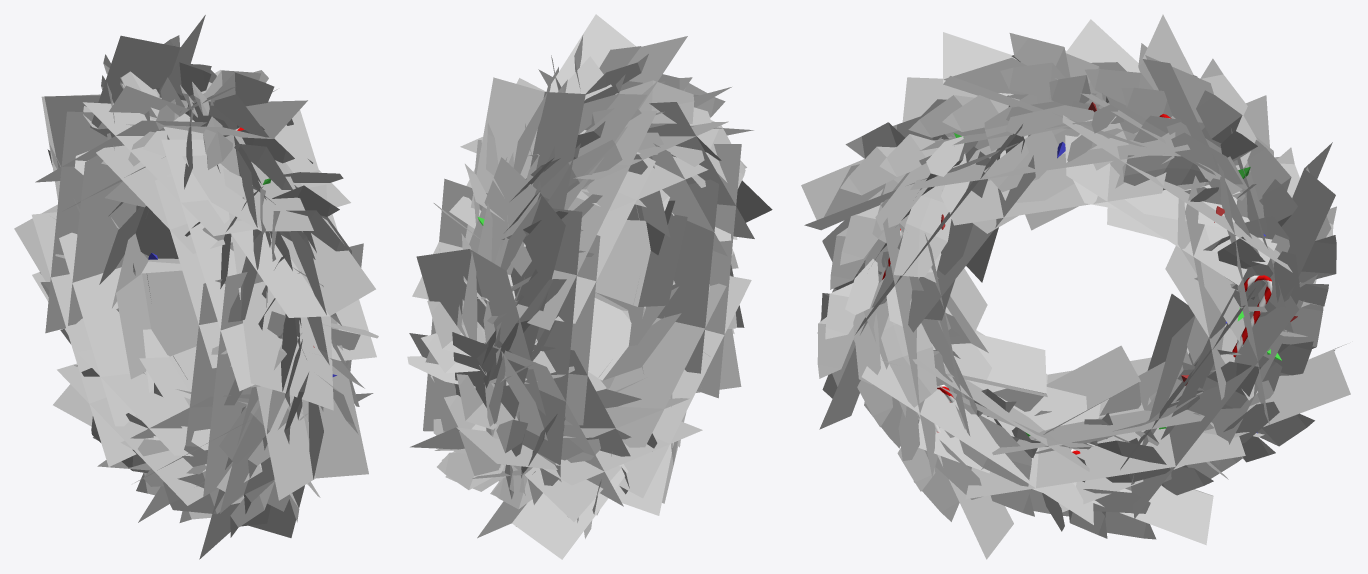
Rendered from xmas_wreath.fbx.
The picture shows the model from 3 angles, left to right: view 1: azimuth 30°, elevation 25°; view 2: azimuth 150°, elevation 25°; view 3: azimuth 270°, elevation 25°; orthographic projection. The views are drawn at different scales.
Visible parts, largest first — view 1: wreath_LOD0; view 2: wreath_LOD0; view 3: wreath_LOD0, wreath decoratoin.
Boxes of the visible parts, bbox=[...] form: wreath_LOD0: bbox=[14, 15, 378, 559]; wreath_LOD0: bbox=[407, 14, 772, 559]; wreath_LOD0: bbox=[801, 14, 1350, 559]; wreath decoratoin: bbox=[882, 102, 1297, 454].
Size of what is drawn, in the model's own units: 42.59 by 132 by 131.
